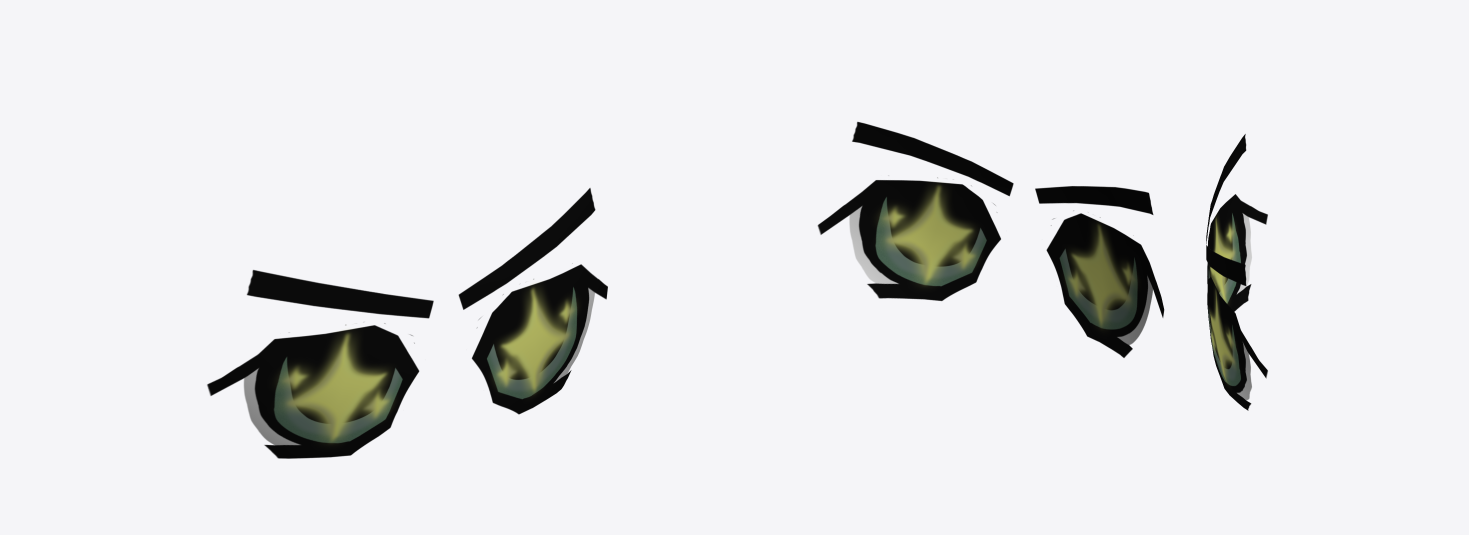
The model's file is Remilio_Star_Green.glb.
3 views of the same model, side by side, from view 1: azimuth 30°, elevation 25°; view 2: azimuth 150°, elevation 25°; view 3: azimuth 270°, elevation 25° (orthographic). The views are drawn at different scales.
Visible parts, largest first — view 1: Remilio_Star_Green; view 2: Remilio_Star_Green; view 3: Remilio_Star_Green.
Part boxes in pixels (x1=…): Remilio_Star_Green: x1=207, y1=188, x2=607, y2=458; Remilio_Star_Green: x1=817, y1=122, x2=1164, y2=357; Remilio_Star_Green: x1=1206, y1=134, x2=1267, y2=410.
Bounding box in the file's own units: 0.8827 × 0.6239 × 0.4009.
Materials: 1 (1 with a texture image).
